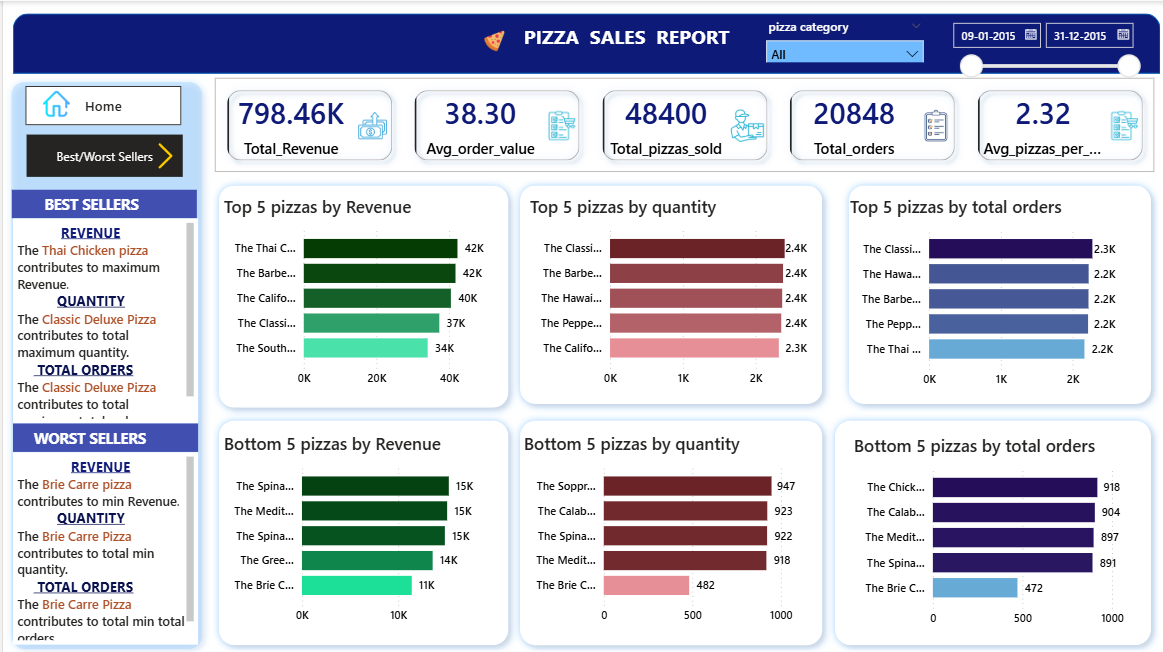

The page's visual inventory and layout, read from the dashboard file:
{"tool":"powerbi","page":{"name":"Best/Worst Sellers","canvas":[1280,720],"ordinal":1},"visuals":[{"type":"cardVisual","fields":{"Data":["pizza_sales.Total_Revenue","pizza_sales.Avg_order_value","pizza_sales.Total_pizzas_sold","pizza_sales.Total_orders","pizza_sales.Avg_pizzas_per_orders"]},"box":[227.8,79.6,1042.9,113.9],"z":0},{"type":"shape","box":[11,13.5,1259.5,66],"z":1000},{"type":"textbox","box":[567.4,19.6,284.9,40.4],"z":2000},{"type":"image","box":[512.4,26.9,55,33],"z":3000},{"type":"shape","box":[227.8,193.5,336.2,262.1],"z":4000},{"type":"shape","box":[0,79.6,227.8,640.8],"z":5000},{"type":"textbox","box":[9.6,207.2,203.1,31.6],"z":6000},{"type":"textbox","box":[11,238.8,203.1,225],"z":7000},{"type":"textbox","box":[11,463.8,203.1,31.6],"z":8000},{"type":"textbox","box":[11,495.4,203.1,211.3],"z":9000},{"type":"slicer","fields":{"Values":["pizza_sales.pizza_category"]},"box":[827.9,13.5,193.2,53.8],"z":10000},{"type":"slicer","fields":{"Values":["pizza_sales.order_date"]},"box":[1030.5,13.7,226.4,79.6],"z":11000},{"type":"shape","box":[558.8,193.2,350,258],"z":12000},{"type":"shape","box":[919.4,193.5,349.9,258],"z":13000},{"type":"shape","box":[227.8,451.5,336.2,264.8],"z":14000},{"type":"shape","box":[558.8,451.2,350,265],"z":15000},{"type":"shape","box":[904.3,451.5,365,264.8],"z":16000},{"type":"barChart","title":"Top 5 pizzas by Revenue","fields":{"Category":["pizza_sales.pizza_name"],"Y":["pizza_sales.Total_Revenue"]},"box":[237.4,212.7,321.1,219.6],"z":17000},{"type":"barChart","title":"Bottom 5 pizzas by Revenue","fields":{"Category":["pizza_sales.pizza_name"],"Y":["pizza_sales.Total_Revenue"]},"box":[237.4,473.4,311.5,219.6],"z":18000},{"type":"barChart","title":"Top 5 pizzas by quantity","fields":{"Category":["pizza_sales.pizza_name"],"Y":["pizza_sales.Total_pizzas_sold"]},"box":[573.6,212.7,321.1,219.6],"z":19000},{"type":"barChart","title":"Bottom 5 pizzas by quantity","fields":{"Category":["pizza_sales.pizza_name"],"Y":["pizza_sales.Total_pizzas_sold"]},"box":[566.7,473.4,321.1,219.6],"z":20000},{"type":"barChart","title":"Top 5 pizzas by total orders","fields":{"Category":["pizza_sales.pizza_name"],"Y":["pizza_sales.Total_orders"]},"box":[924.9,212.7,315.6,220.9],"z":21000},{"type":"barChart","title":"Bottom 5 pizzas by total orders","fields":{"Category":["pizza_sales.pizza_name"],"Y":["pizza_sales.Total_orders"]},"box":[929,474.8,315.6,220.9],"z":22000},{"type":"pageNavigator","box":[24.7,93.3,171.5,43.9],"z":23000},{"type":"pageNavigator","box":[26.1,146.8,171.5,46.7],"z":24000},{"type":"image","box":[159.2,146.8,38.4,46.7],"z":25000},{"type":"image","box":[24.7,93.3,67.2,39.8],"z":26000}]}

Visuals, with their boxes in screenshot pixels (x1, y1, x2, y2), scaled from the page's 1280x720 canvas onto the 1163x652 screenshot:
cardVisual - pizza_sales.Total_Revenue x pizza_sales.Avg_order_value: <region>207, 72, 1155, 175</region>
shape: <region>10, 12, 1154, 72</region>
textbox: <region>516, 18, 774, 54</region>
image: <region>466, 24, 516, 54</region>
shape: <region>207, 175, 512, 413</region>
shape: <region>0, 72, 207, 651</region>
textbox: <region>9, 188, 193, 216</region>
textbox: <region>10, 216, 195, 420</region>
textbox: <region>10, 420, 195, 449</region>
textbox: <region>10, 449, 195, 640</region>
slicer - pizza_sales.pizza_category: <region>752, 12, 928, 61</region>
slicer - pizza_sales.order_date: <region>936, 12, 1142, 84</region>
shape: <region>508, 175, 826, 409</region>
shape: <region>835, 175, 1153, 409</region>
shape: <region>207, 409, 512, 649</region>
shape: <region>508, 409, 826, 649</region>
shape: <region>822, 409, 1153, 649</region>
"Top 5 pizzas by Revenue" barChart: <region>216, 193, 507, 391</region>
"Bottom 5 pizzas by Revenue" barChart: <region>216, 429, 499, 628</region>
"Top 5 pizzas by quantity" barChart: <region>521, 193, 813, 391</region>
"Bottom 5 pizzas by quantity" barChart: <region>515, 429, 807, 628</region>
"Top 5 pizzas by total orders" barChart: <region>840, 193, 1127, 393</region>
"Bottom 5 pizzas by total orders" barChart: <region>844, 430, 1131, 630</region>
pageNavigator: <region>22, 84, 178, 124</region>
pageNavigator: <region>24, 133, 180, 175</region>
image: <region>145, 133, 180, 175</region>
image: <region>22, 84, 83, 121</region>
